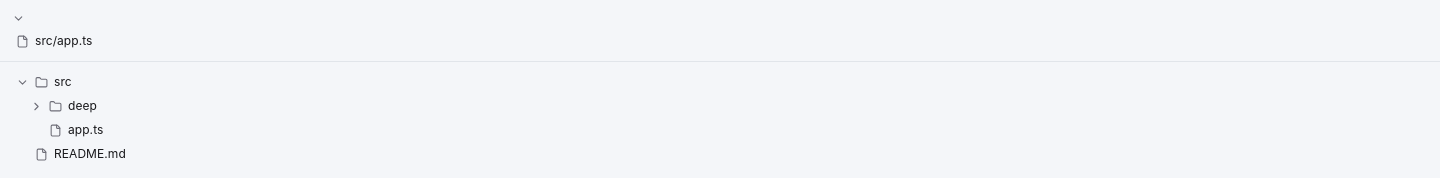
FilesView — "Touched this session" group › collapses and re-expands on click
This screenshot has width=1440, height=178.
Expected: the text "src/app.ts" is shown, 35,33 -> 92,49
Step 1. Click the button with test id "panel-touched-group" → [18, 18], box 8,8 -> 1432,29
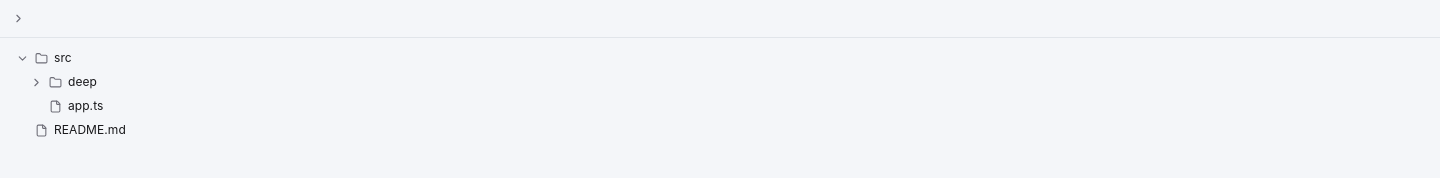
Expected: the button "src/app.ts" is gone
Expected: the button with test id "panel-touched-group" is collapsed
Step 2. Click the button with test id "panel-touched-group" → [18, 18], box 8,8 -> 1432,29
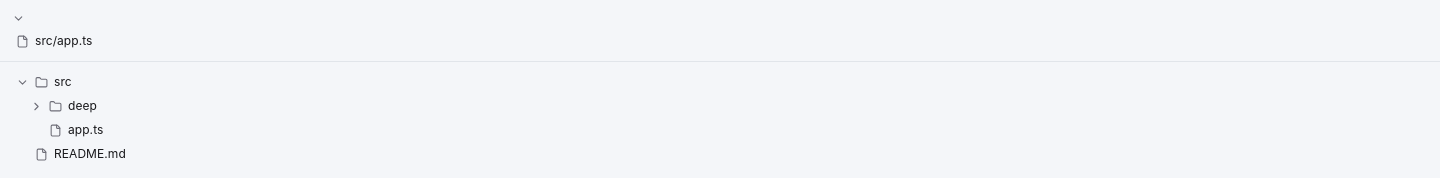
Expected: the text "src/app.ts" is shown, 35,33 -> 92,49
